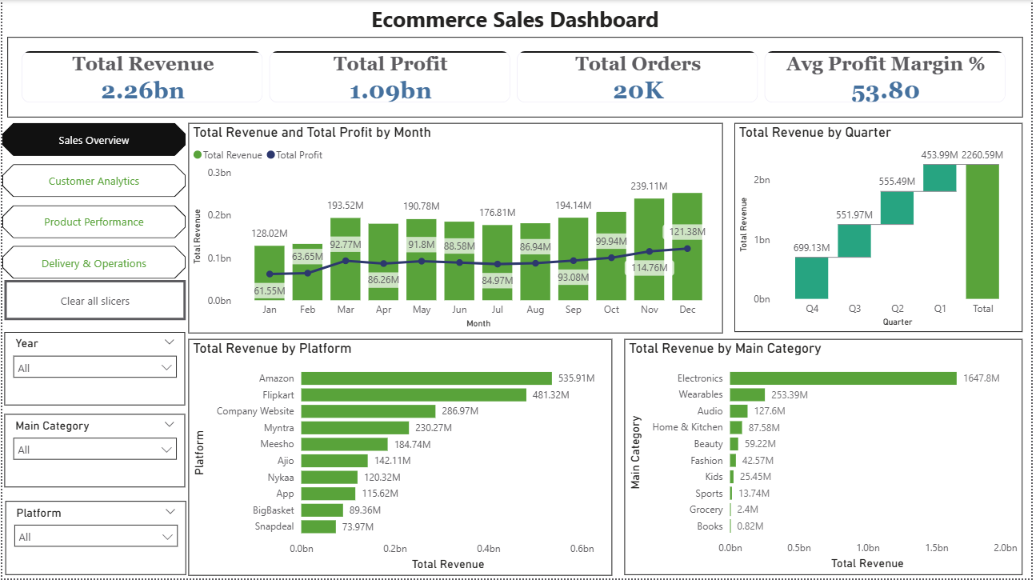

The dashboard page shown, as its layout file describes it:
{"tool":"powerbi","page":{"name":"Sales Overview","canvas":[1280,720],"ordinal":0},"visuals":[{"type":"cardVisual","fields":{"Data":["Table.Total Revenue","Table.Total Profit","Table.Total Orders","Table.Avg Profit Margin %"]},"box":[5.7,45.7,1262.9,100],"z":0},{"type":"textbox","box":[5.7,0,1262.9,45.7],"z":1000},{"type":"lineClusteredColumnComboChart","fields":{"Category":["Date Table.Month","Date Table.Year"],"Y":["Table.Total Revenue"],"Y2":["Table.Total Profit"]},"box":[231.7,153.3,665,261.7],"z":2000},{"type":"waterfallChart","fields":{"Y":["Table.Total Revenue"],"Category":["Ecommerce Orders.Quarter"]},"box":[910,153.3,358.3,260],"z":3000},{"type":"clusteredBarChart","fields":{"Category":["Ecommerce Orders.Platform"],"Y":["Table.Total Revenue"]},"box":[231.4,421.4,527.1,294.3],"z":4000},{"type":"clusteredBarChart","fields":{"Y":["Table.Total Revenue"],"Category":["Ecommerce Orders.Main Category"]},"box":[773.3,421.7,495,293.3],"z":5000},{"type":"actionButton","box":[2.9,348.6,225.7,50],"z":6000},{"type":"pageNavigator","box":[0,152.9,228.6,195.7],"z":7000},{"type":"slicer","fields":{"Values":["Ecommerce Orders.Platform"]},"box":[3.7,623.2,225.2,92.1],"z":8000},{"type":"slicer","fields":{"Values":["Date Table.Year"]},"box":[2.5,413,225.2,90.8],"z":9000},{"type":"slicer","fields":{"Values":["Ecommerce Orders.Main Category"]},"box":[2.5,515,225.2,90.8],"z":10000}]}

Visuals, with their boxes in screenshot pixels (x1, y1, x2, y2), scaled from the page's 1280x720 canvas onto the 1033x580 screenshot:
cardVisual - Table.Total Revenue x Table.Total Profit: [left=5, top=37, right=1024, bottom=117]
textbox: [left=5, top=0, right=1024, bottom=37]
lineClusteredColumnComboChart - Date Table.Month x Date Table.Year: [left=187, top=123, right=724, bottom=334]
waterfallChart - Table.Total Revenue x Ecommerce Orders.Quarter: [left=734, top=123, right=1024, bottom=333]
clusteredBarChart - Ecommerce Orders.Platform x Table.Total Revenue: [left=187, top=339, right=612, bottom=577]
clusteredBarChart - Table.Total Revenue x Ecommerce Orders.Main Category: [left=624, top=340, right=1024, bottom=576]
actionButton: [left=2, top=281, right=184, bottom=321]
pageNavigator: [left=0, top=123, right=184, bottom=281]
slicer - Ecommerce Orders.Platform: [left=3, top=502, right=185, bottom=576]
slicer - Date Table.Year: [left=2, top=333, right=184, bottom=406]
slicer - Ecommerce Orders.Main Category: [left=2, top=415, right=184, bottom=488]
